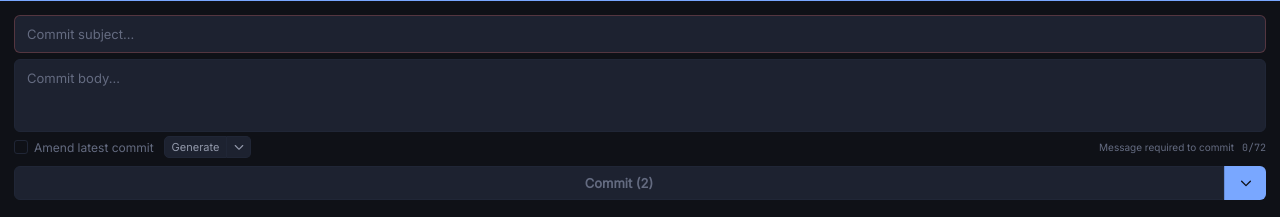
CommitBox › reports the measured and configured staged context sizes
Click the button "Generate": {"x": 196, "y": 147} [164,136,227,158]
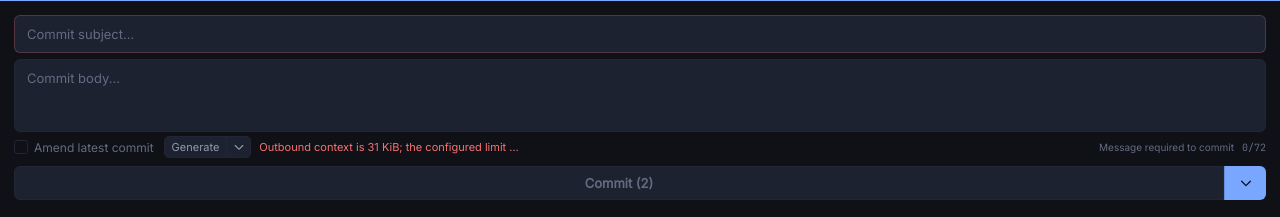
Check: the text "Outbound context is 31 KiB; the configured limit is 24 KiB." is shown, box [259,140,519,154]
